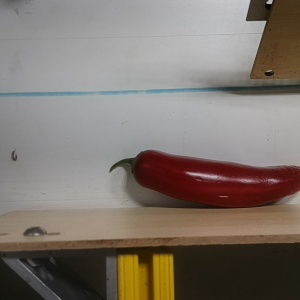Cut Point: (124, 147, 151, 183)
